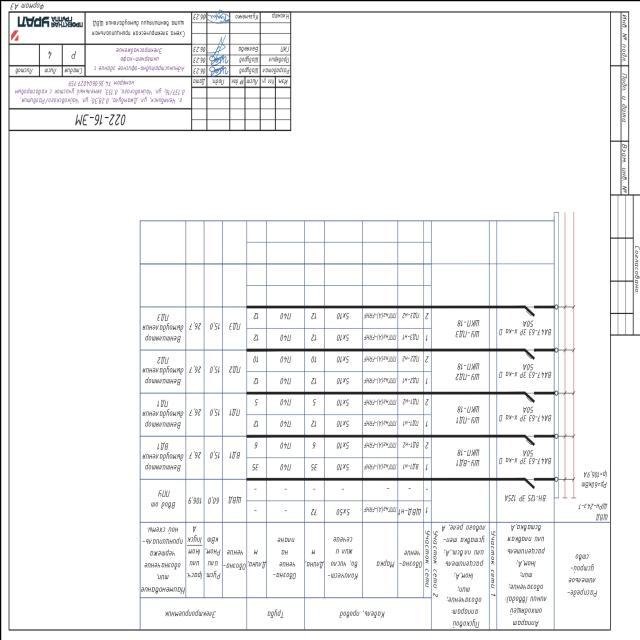-: (497, 406, 551, 424), (497, 318, 551, 336), (497, 446, 551, 464), (498, 361, 552, 379), (503, 492, 545, 502), (576, 499, 608, 511)
QF: (523, 346, 539, 362), (522, 431, 538, 447), (521, 301, 537, 317), (522, 387, 538, 402)
QS: (522, 476, 536, 490)
